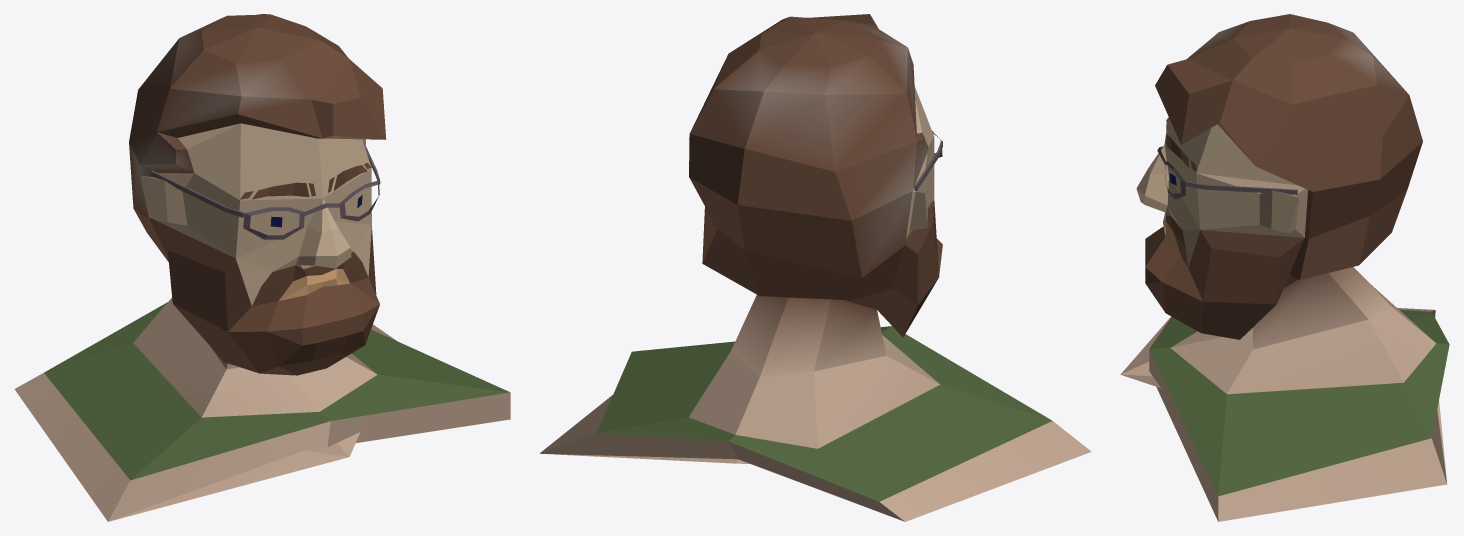
File: portrait.glb
3 renders of one model, left to right at view 1: azimuth 30°, elevation 25°; view 2: azimuth 150°, elevation 25°; view 3: azimuth 270°, elevation 25°, orthographic. The views are drawn at different scales.
Visible parts, largest first — view 1: Head, Glasses; view 2: Head; view 3: Head, Glasses.
Part boxes in pixels (x1,y1,x2,y2): Head: [14, 14, 510, 521]; Glasses: [150, 139, 380, 239]; Head: [539, 14, 1091, 521]; Head: [1120, 14, 1449, 521]; Glasses: [1157, 118, 1297, 199].
Bounding box in the file's own units: 3.47 × 3.26 × 2.47.
